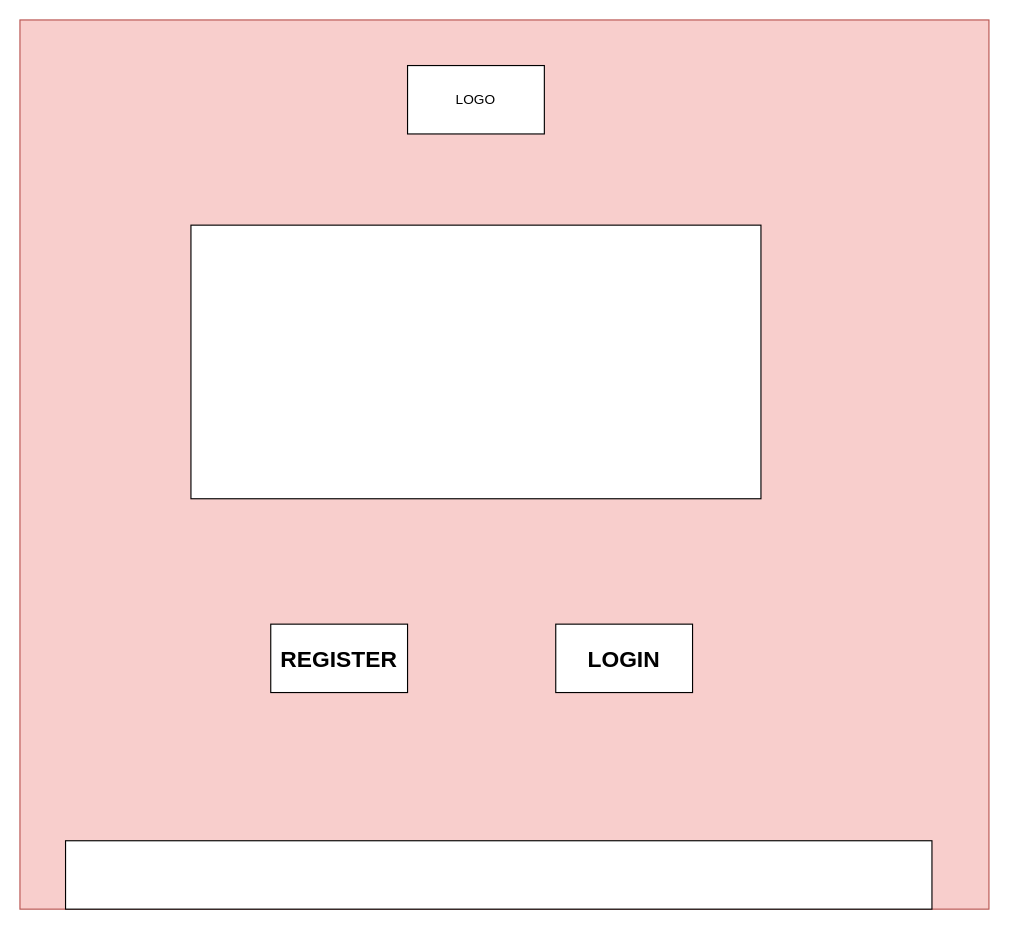
Some shapes in this 1009 by 929 pixel diagram are drawn without their labels. The shapes that lost their labels are listed below. From the top down, each one's box as (x1, y1, x2, y2) in pixels, then its label:
(190, 224, 761, 499): MAIN CONTENT
(64, 840, 932, 909): FOOTER
